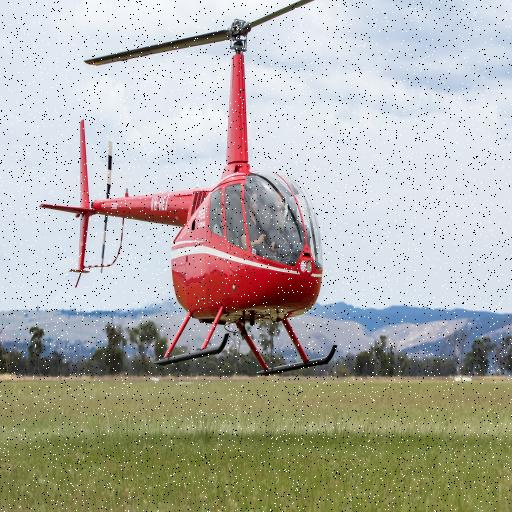helicopter: (40, 1, 341, 372)
